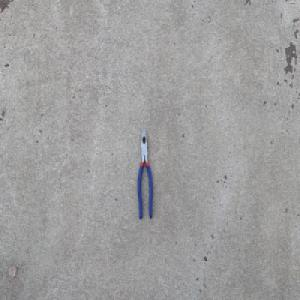Pliers: (137, 127, 153, 221)
